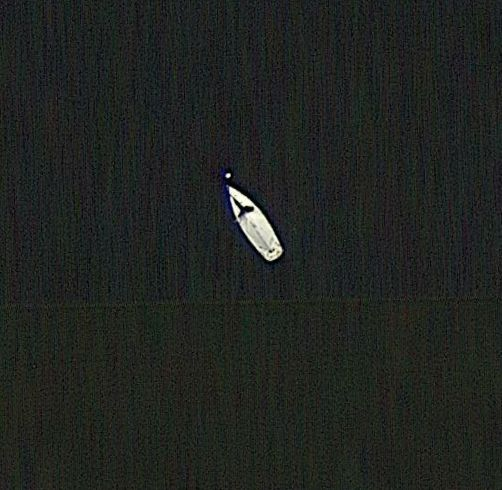boat: (223, 183, 287, 266)
